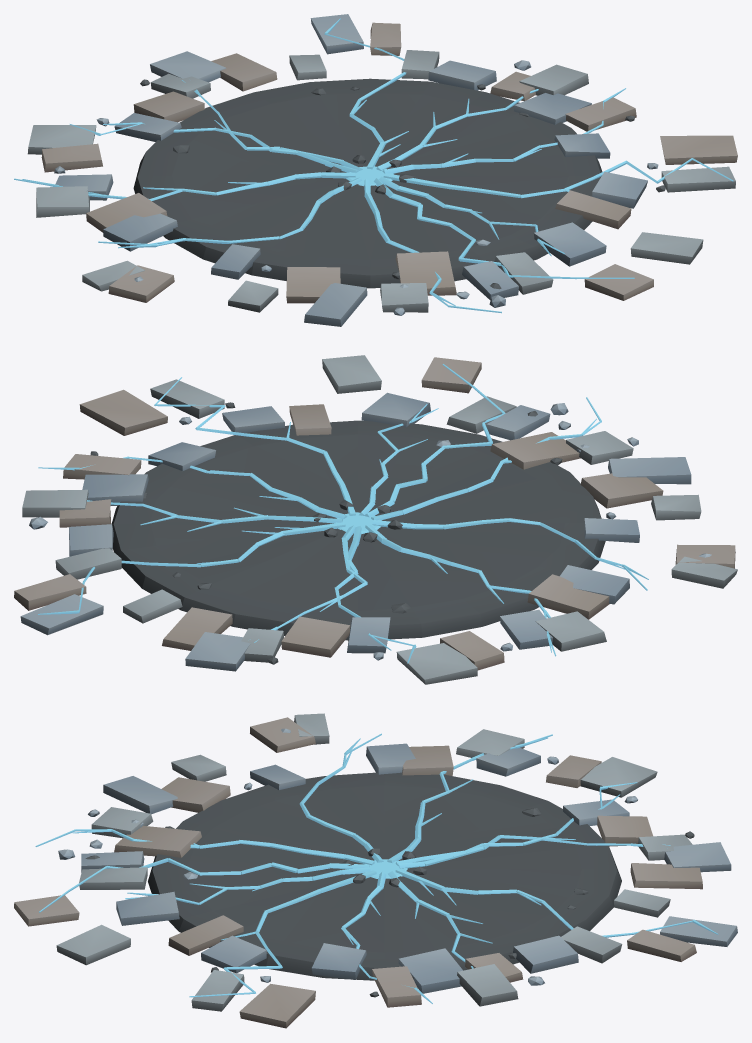
File: wind_rift.glb
The picture shows the model from 3 angles, top to bottom: view 1: azimuth 30°, elevation 25°; view 2: azimuth 150°, elevation 25°; view 3: azimuth 270°, elevation 25°; orthographic projection. The views are drawn at different scales.
Parts seen in each view (by area): view 1: wind_rift; view 2: wind_rift; view 3: wind_rift.
Boxes of the visible parts, left/top/right/bottom form: wind_rift: left=14, top=14, right=737, bottom=326; wind_rift: left=14, top=355, right=737, bottom=684; wind_rift: left=14, top=713, right=737, bottom=1028.
Bounding box in the file's own units: 29.52 × 0.8622 × 29.33.
Materials: 4 (4 with a texture image).
